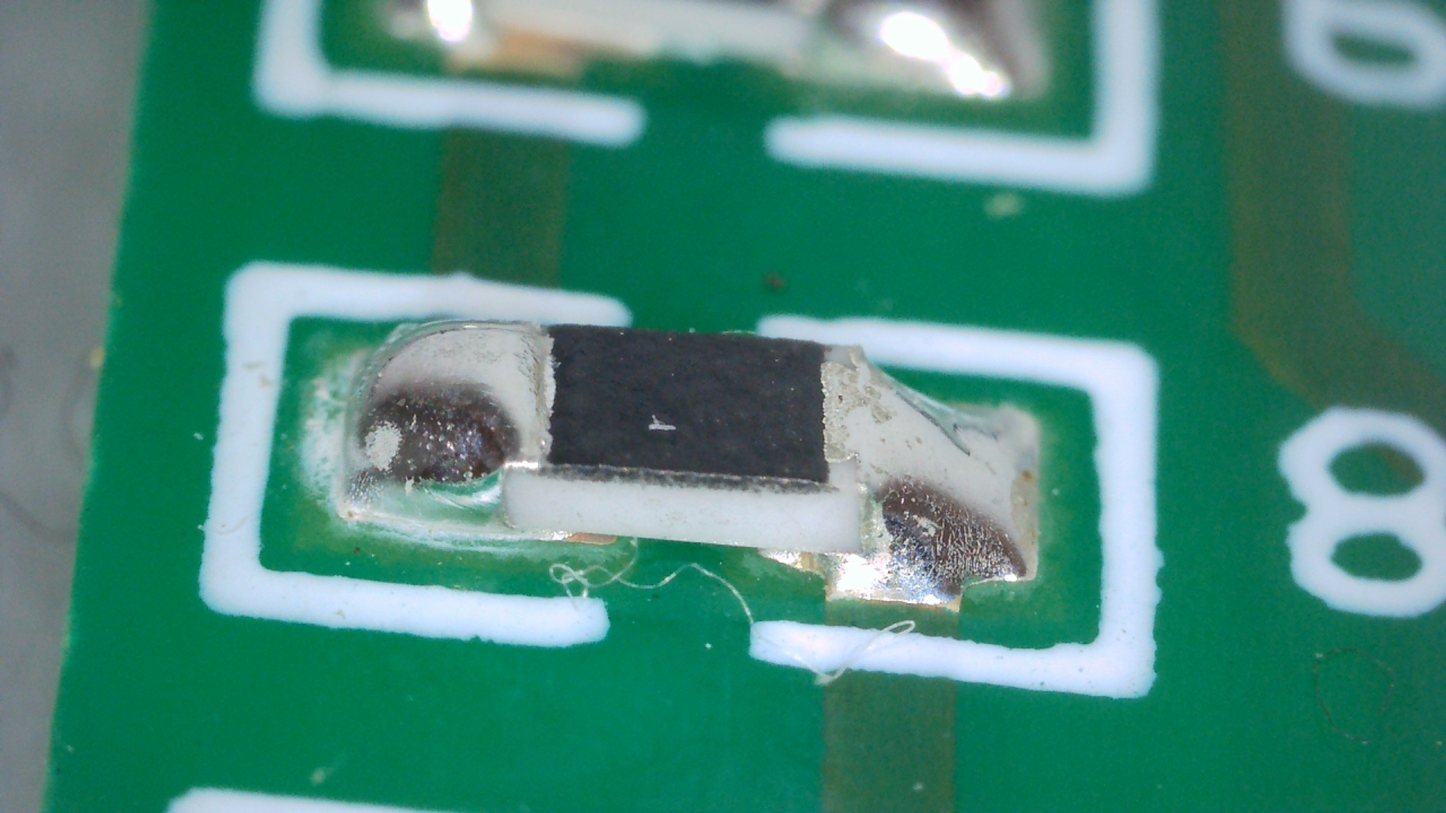NG: (338, 319, 549, 508)
OK: (760, 346, 1039, 611)
